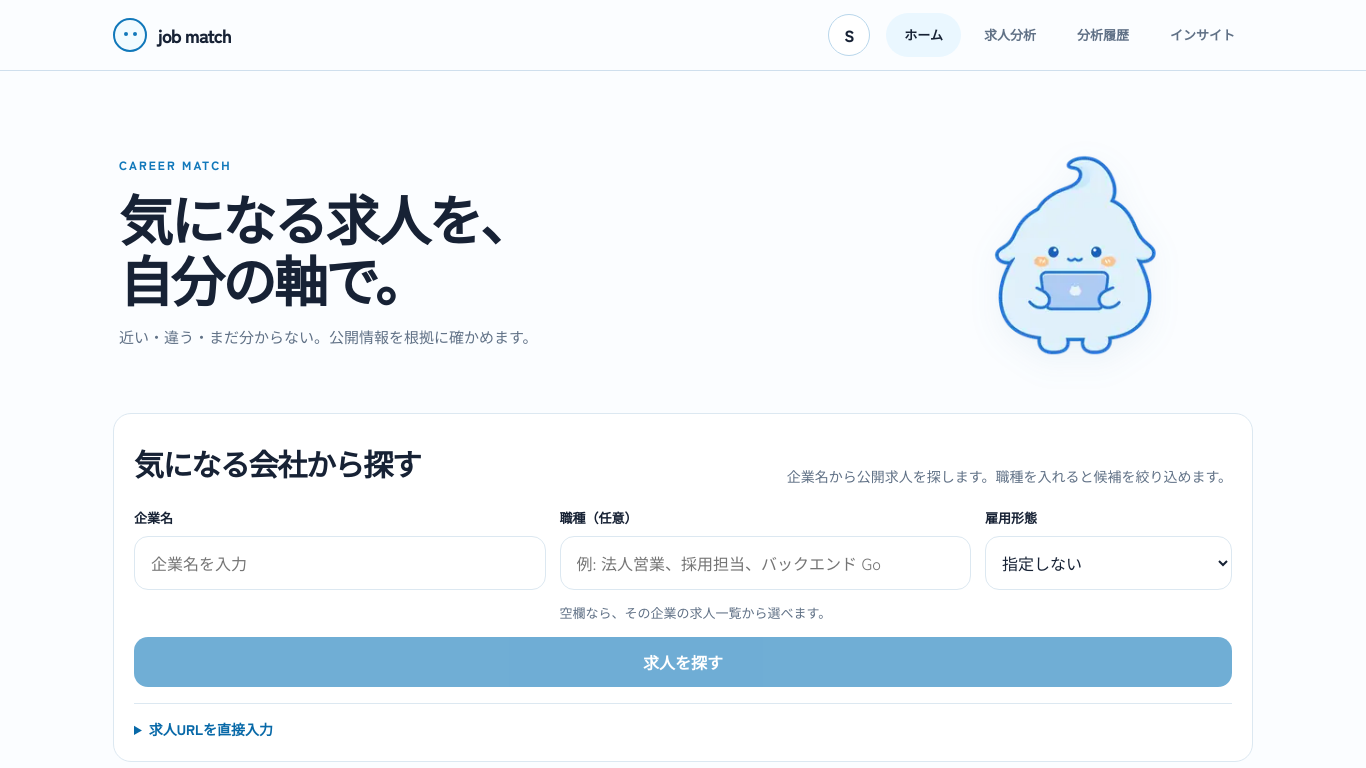
Test case: home submission moves to the analysis screen and shows progress
The image size is (1366, 768).
Click the heading "求人URLを直接入力". click: (211, 729)
box: x1=149 y1=719 x2=273 y2=739
(page scrolled)
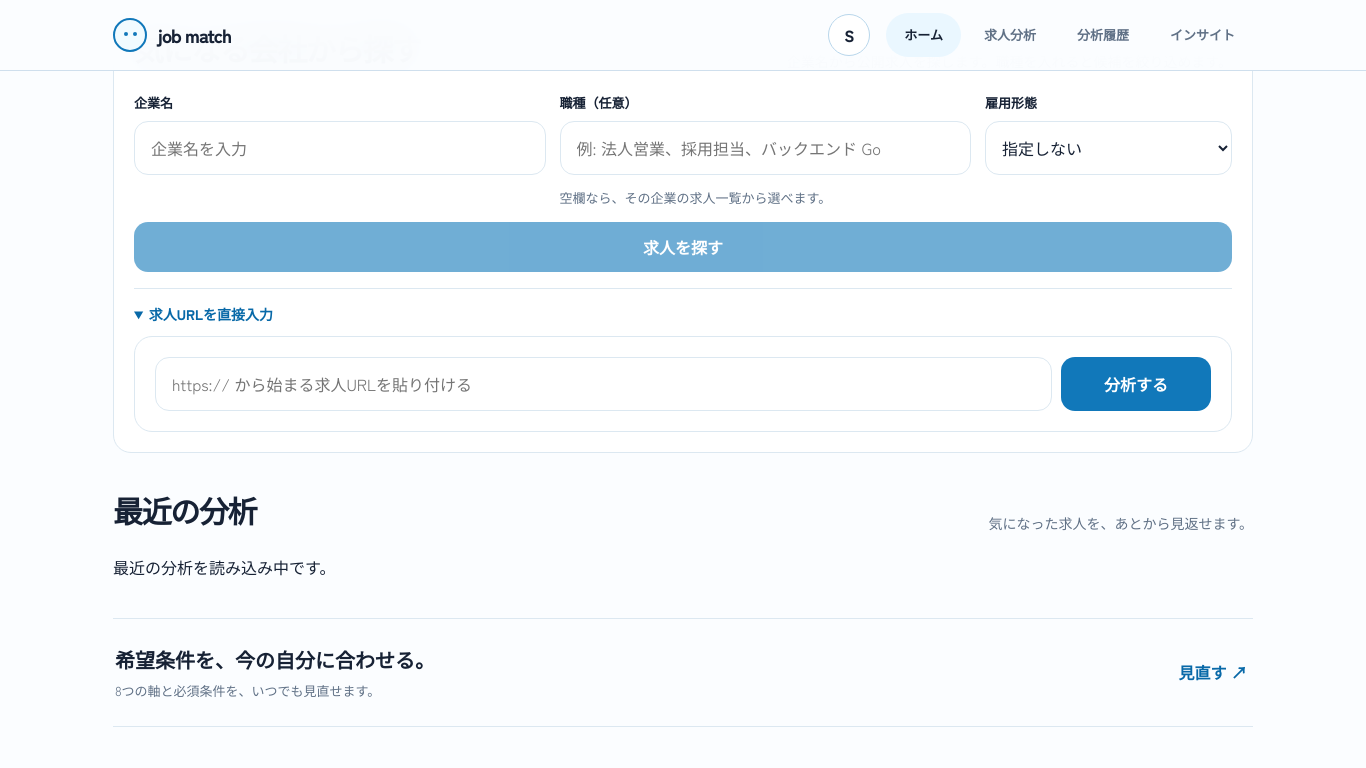
Type "https://jobs.example.com/1" into the field named "求人ページのURL". click: (604, 384)
box: x1=155 y1=358 x2=1052 y2=412
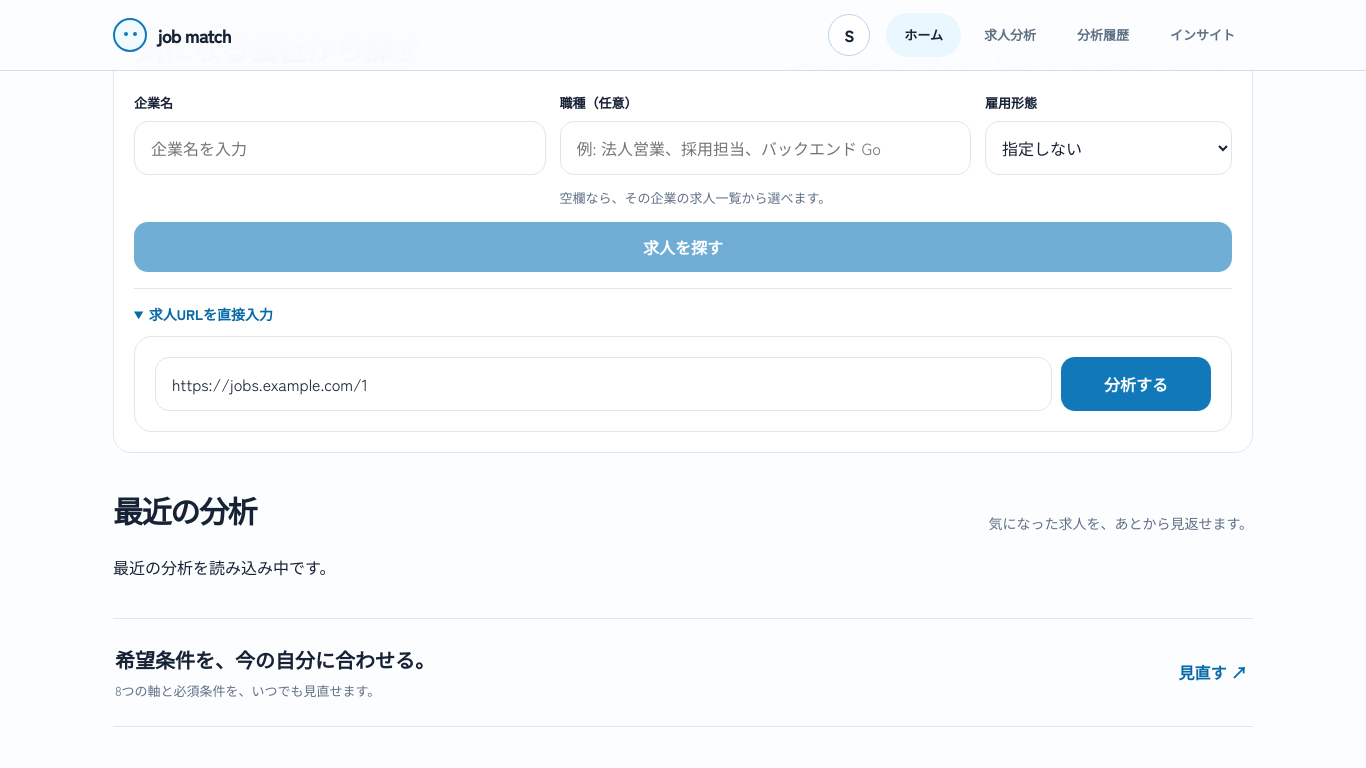
Click the button "分析する". click: (1136, 384)
box: x1=1061 y1=358 x2=1211 y2=412
(page scrolled)
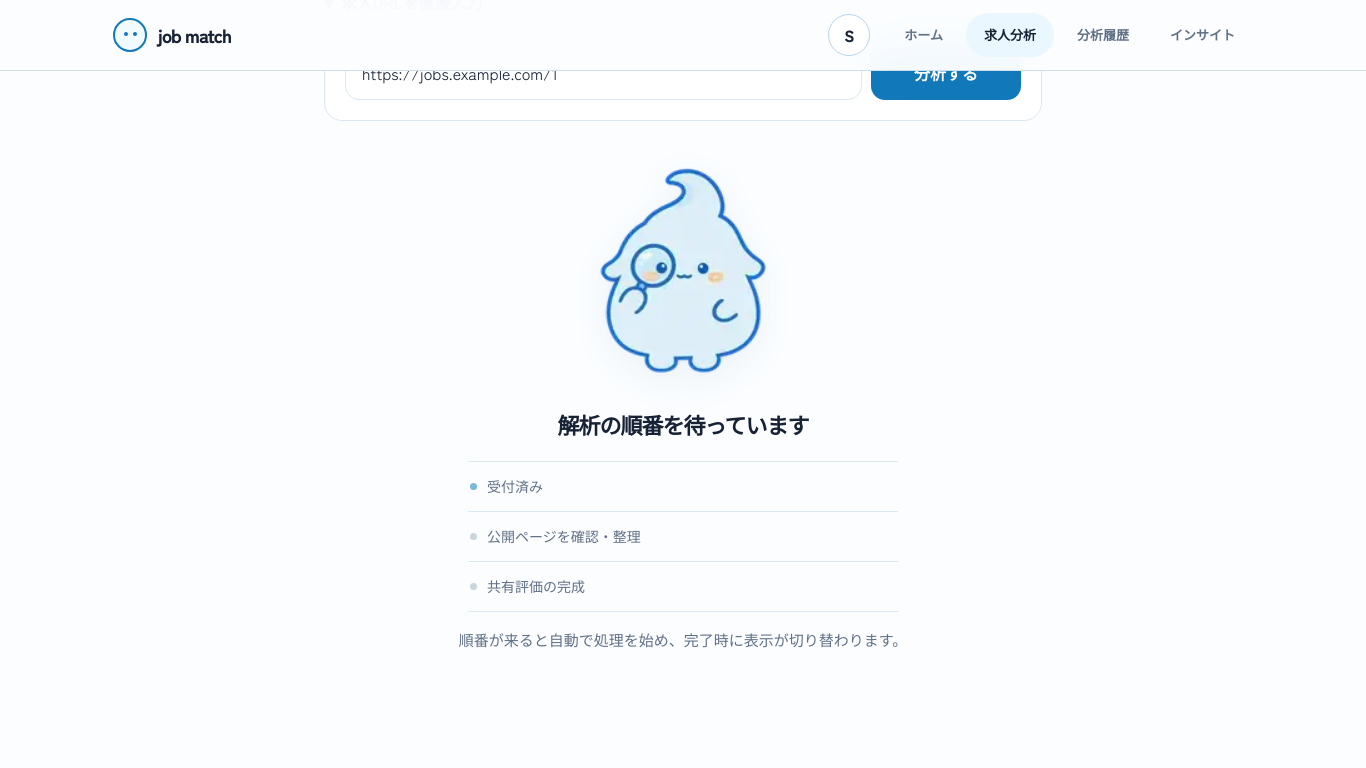
Now the field named "求人ページのURL" holds "https://jobs.example.com/1", box x1=345 y1=46 x2=862 y2=100
Now the heading "解析の順番を待っています" is shown, box x1=558 y1=408 x2=808 y2=440
